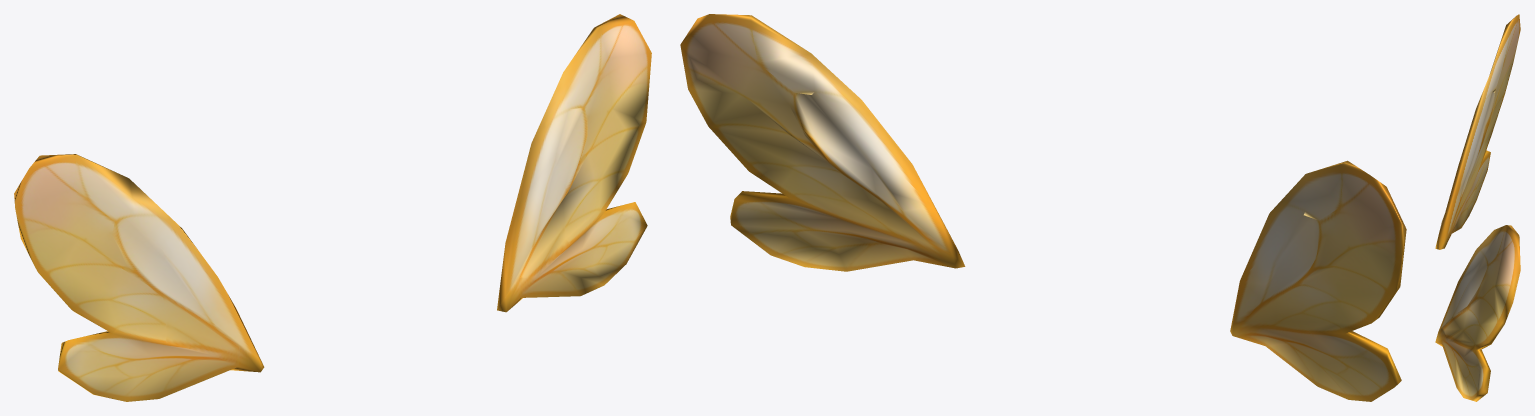
File: HoneybeeSlimeWear.fbx
The picture shows the model from 3 angles, left to right: view 1: azimuth 30°, elevation 25°; view 2: azimuth 150°, elevation 25°; view 3: azimuth 270°, elevation 25°; orthographic projection. The views are drawn at different scales.
Visible parts, largest first — view 1: WingR, WingL; view 2: WingL, WingR; view 3: WingL, WingR.
Boxes of the visible parts, x1,y1,x2,y2 form: WingR: [14, 154, 264, 401]; WingL: [497, 14, 651, 312]; WingL: [680, 14, 965, 271]; WingR: [1230, 160, 1406, 401]; WingL: [1435, 225, 1520, 401]; WingR: [1435, 14, 1520, 249].
Size of the model in its own units: 1.26 by 0.4405 by 0.1866.
1 material, 1 textured.
